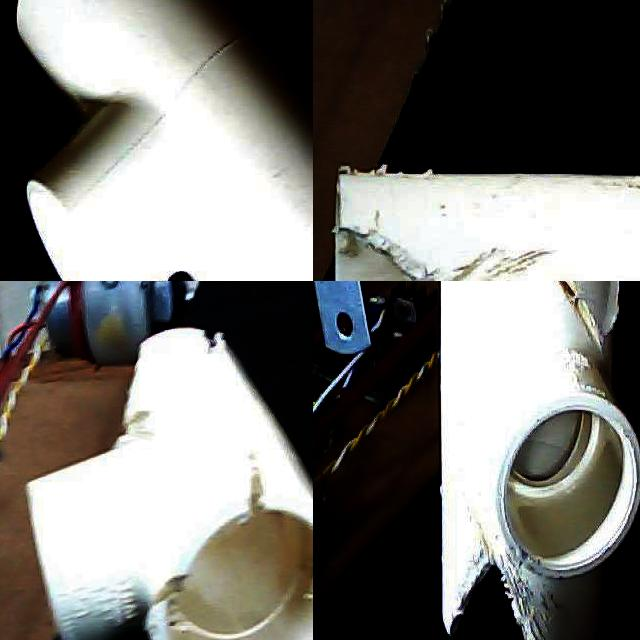Defective: (428, 281, 640, 640), (486, 281, 614, 387), (455, 522, 555, 640), (205, 450, 289, 554), (99, 348, 175, 461), (331, 215, 456, 281), (127, 561, 221, 640), (177, 318, 241, 390), (335, 163, 483, 193), (458, 246, 563, 281), (569, 172, 640, 211)
T Joint: (25, 327, 313, 640), (14, 0, 313, 281), (438, 281, 640, 640), (332, 168, 640, 281)
